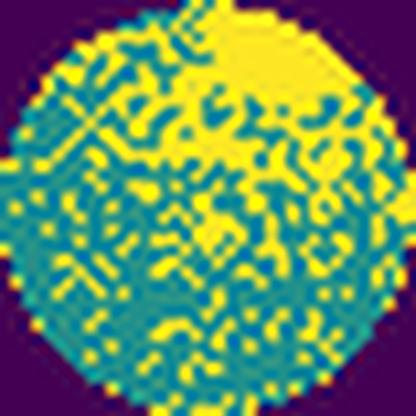Edge-Loc: (50, 0, 388, 228), (386, 172, 415, 232)
